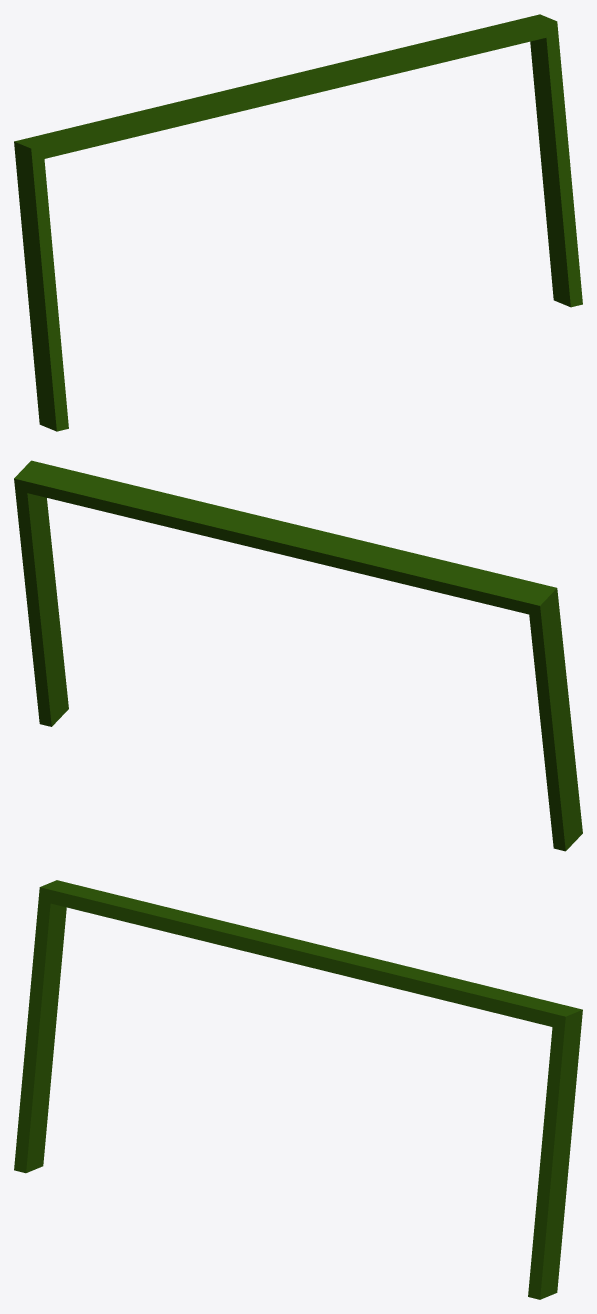
The model's file is original-29.obj.
3 renders of one model, top to bottom at view 1: azimuth 30°, elevation 25°; view 2: azimuth 150°, elevation 25°; view 3: azimuth 330°, elevation 25°, orthographic.
Visible parts, largest first — view 1: Group15/mesh99/mesh99-geometry#mesh99-geometry; view 2: Group15/mesh99/mesh99-geometry#mesh99-geometry; view 3: Group15/mesh99/mesh99-geometry#mesh99-geometry.
Boxes of the visible parts, x1,y1,x2,y2 form: Group15/mesh99/mesh99-geometry#mesh99-geometry: (14, 14, 582, 431); Group15/mesh99/mesh99-geometry#mesh99-geometry: (14, 460, 582, 851); Group15/mesh99/mesh99-geometry#mesh99-geometry: (14, 880, 582, 1299).
Bounding box in the file's own units: 0.1579 × 0.0777 × 0.0224.
